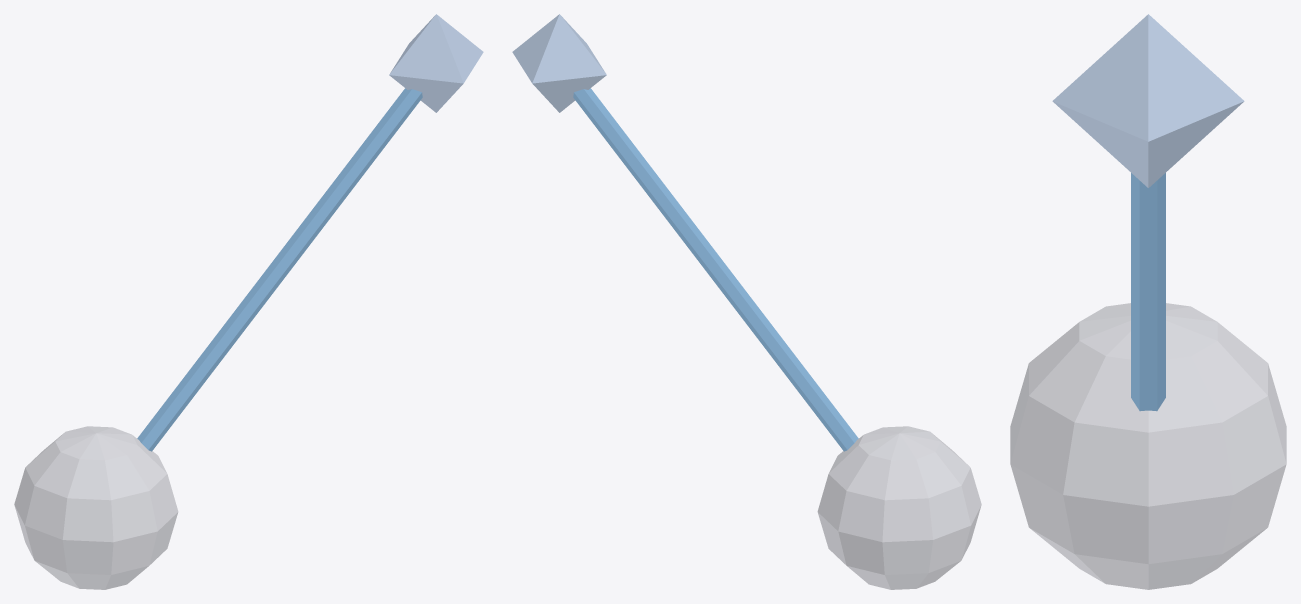
File: constellation-cmi.glb
3 renders of one model, left to right at view 1: azimuth 30°, elevation 25°; view 2: azimuth 150°, elevation 25°; view 3: azimuth 270°, elevation 25°, orthographic. The views are drawn at different scales.
Bounding box in the file's own units: 0.4261 × 0.4312 × 0.1263.
